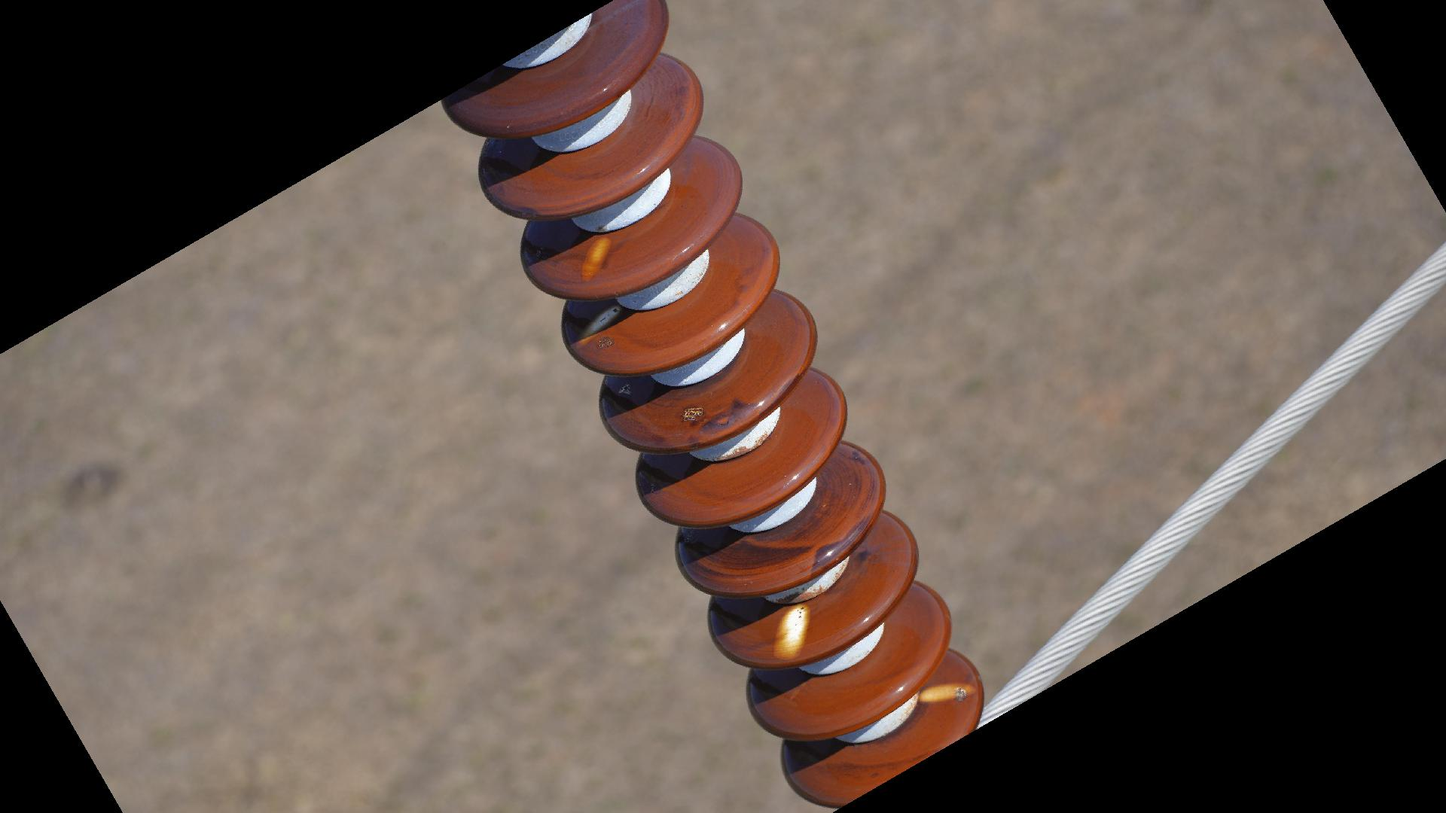insulator: (431, 1, 990, 813)
insulator_flashover: (767, 599, 813, 665), (569, 300, 624, 352), (577, 230, 618, 288), (911, 677, 981, 708)
